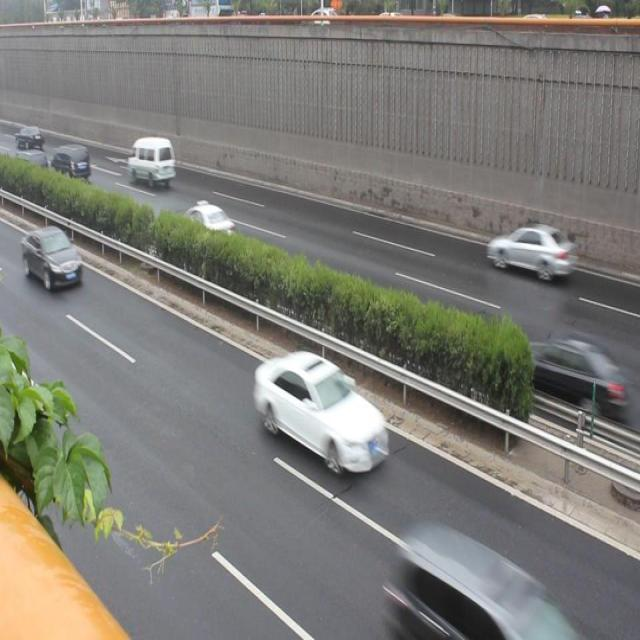car: (258, 348, 390, 480), (516, 326, 629, 433), (486, 218, 575, 287), (19, 224, 88, 290), (180, 190, 234, 253)
truck: (128, 133, 177, 186)
